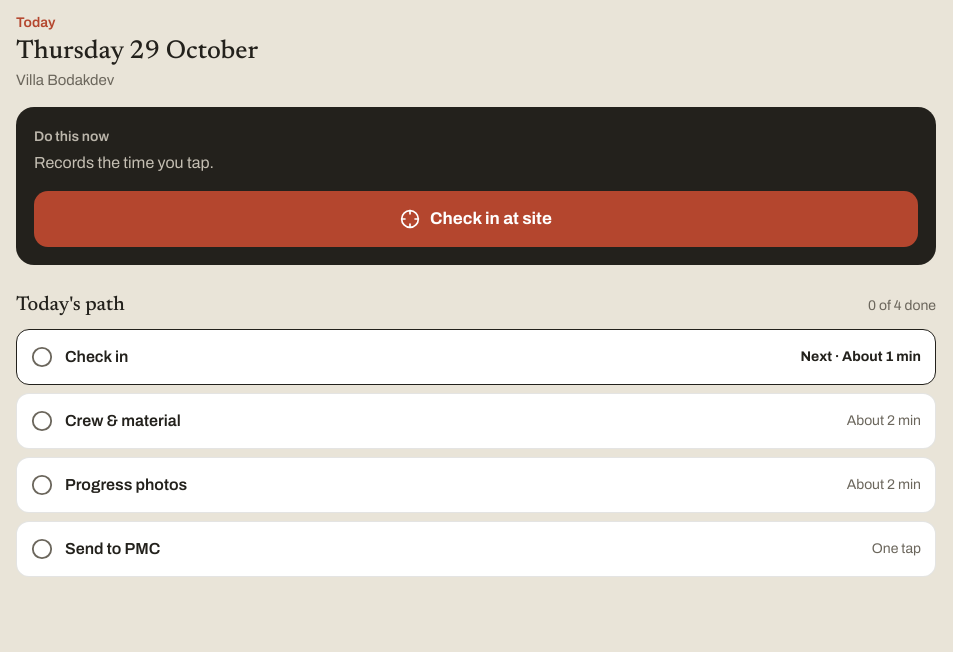
Scenario: Engineer Today — the screen › the big action checks in, and the path moves on to crew
Click the button with test id "today-action": (476, 219) [34, 191, 918, 247]
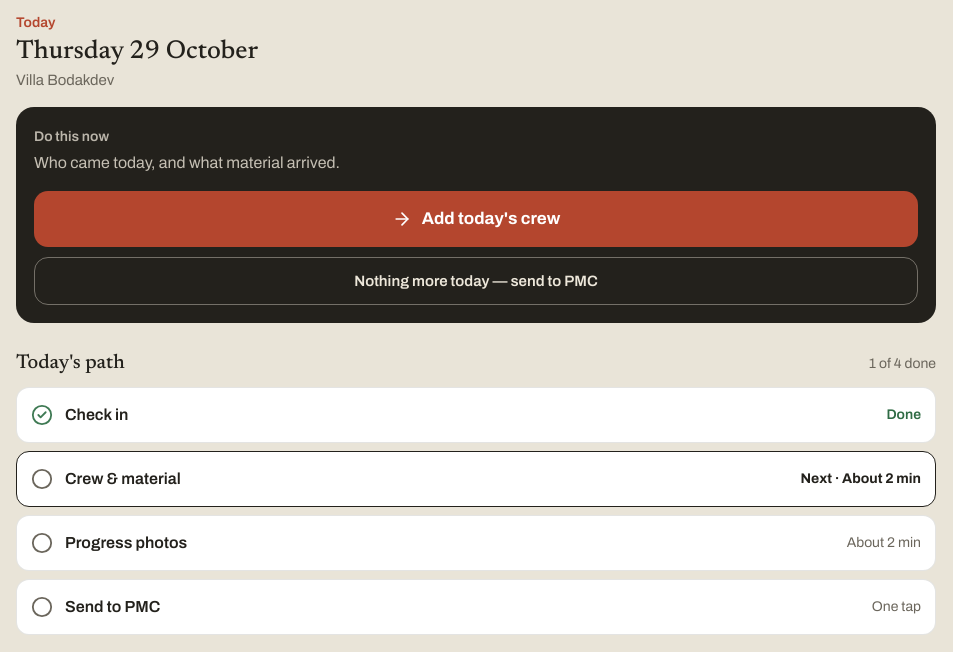
Expected: the text with test id "today-count" reads "1 of 4 done", [869, 356, 936, 371]
